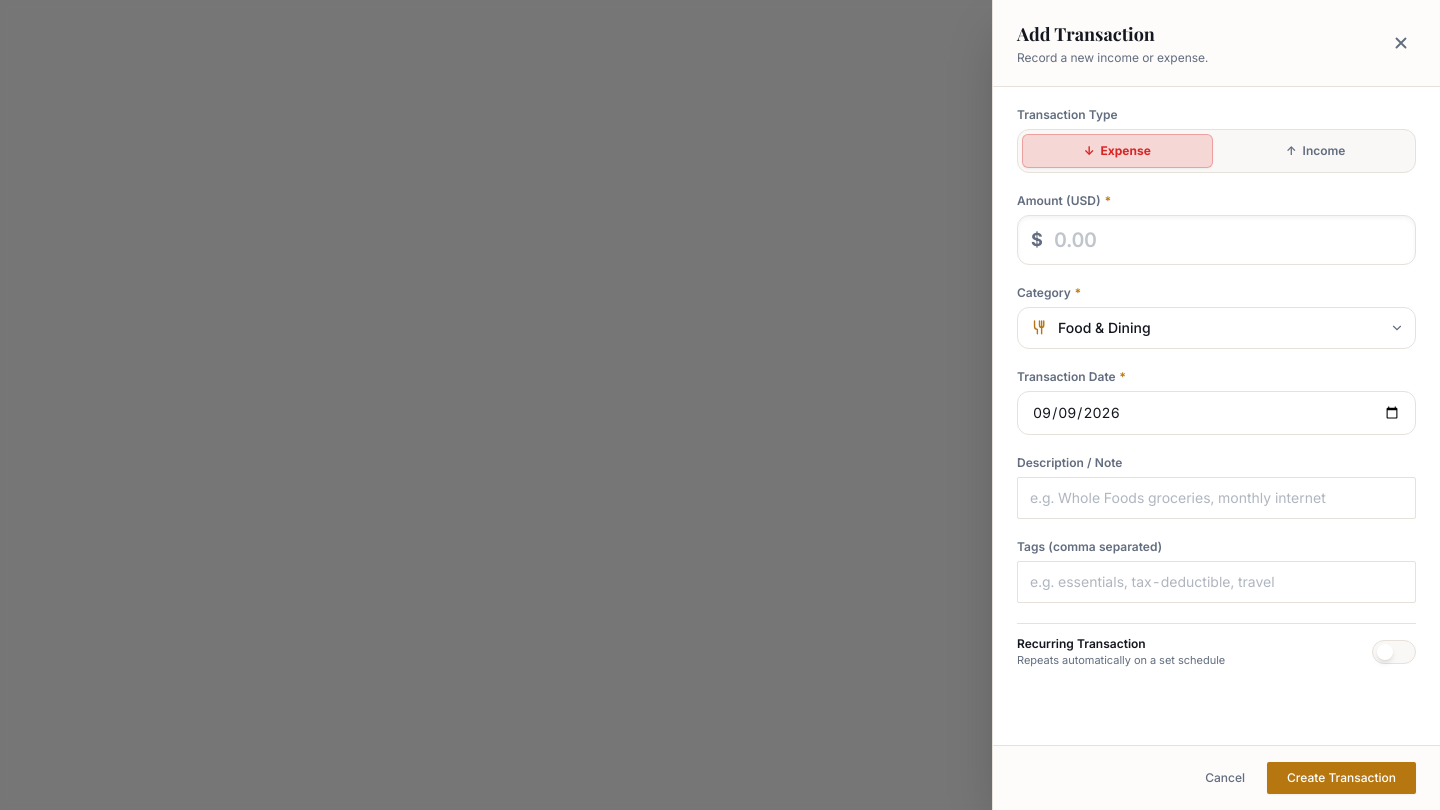
Test: TransactionSlideOver Component › reveals frequency options when recurring switch is toggled
Click the switch: point(1394, 652) [1372, 640, 1416, 664]
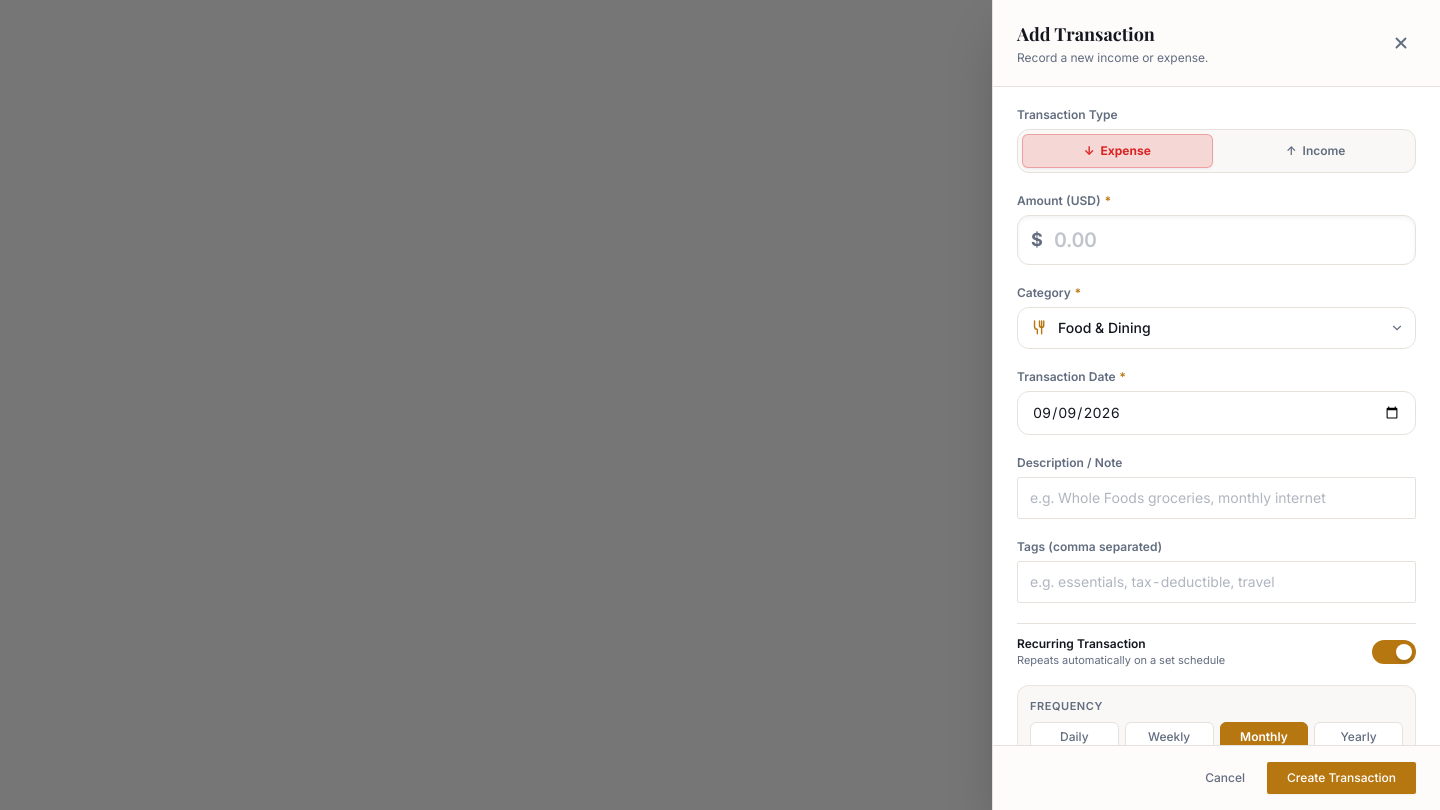
Expected: the button "daily" is shown, [1030, 722, 1119, 745]
Expected: the button "weekly" is shown, [1125, 722, 1214, 745]
Expected: the button "monthly" is shown, [1220, 722, 1308, 745]
